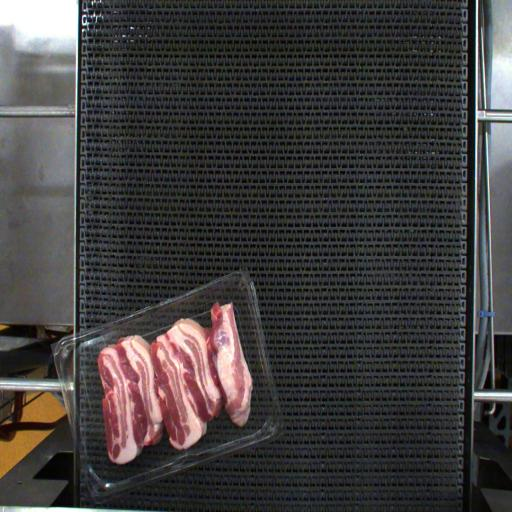twisted-meat: (212, 307, 251, 421)
